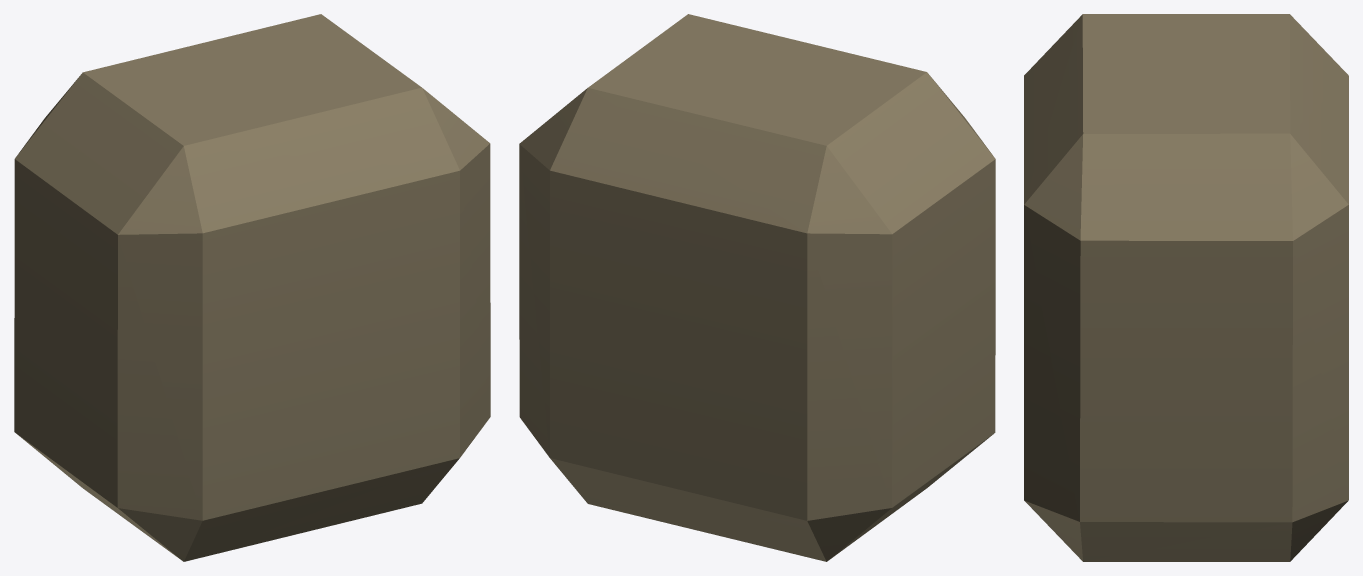
File: Zhongli_PlanetBefall_FallingRockChip.fbx
3 views of the same model, side by side, from view 1: azimuth 30°, elevation 25°; view 2: azimuth 150°, elevation 25°; view 3: azimuth 270°, elevation 25° (orthographic). The views are drawn at different scales.
Visible parts, largest first — view 1: PART_SmallDarkRockChip; view 2: PART_SmallDarkRockChip; view 3: PART_SmallDarkRockChip.
Boxes of the visible parts, <box> form: PART_SmallDarkRockChip: <box>14,14,490,561</box>; PART_SmallDarkRockChip: <box>519,14,995,561</box>; PART_SmallDarkRockChip: <box>1024,14,1348,561</box>.
Bounding box in the file's own units: 15 × 16 × 11.
